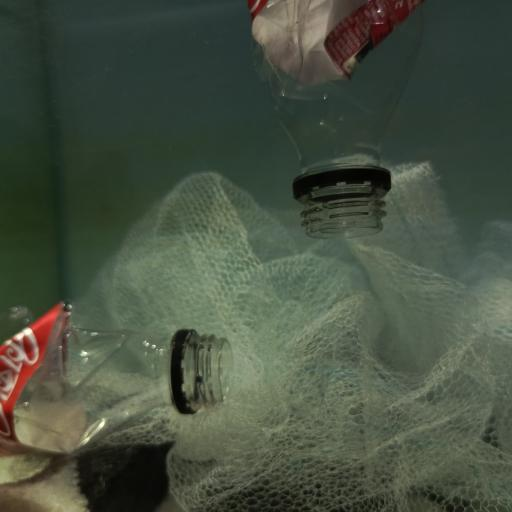net: (73, 165, 512, 512)
plastic_bottle: (246, 0, 426, 242), (0, 298, 233, 455)
